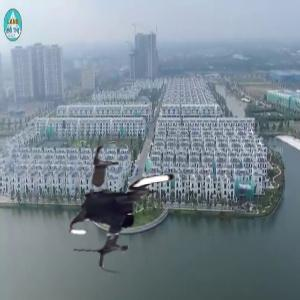drone: (55, 136, 200, 281)
